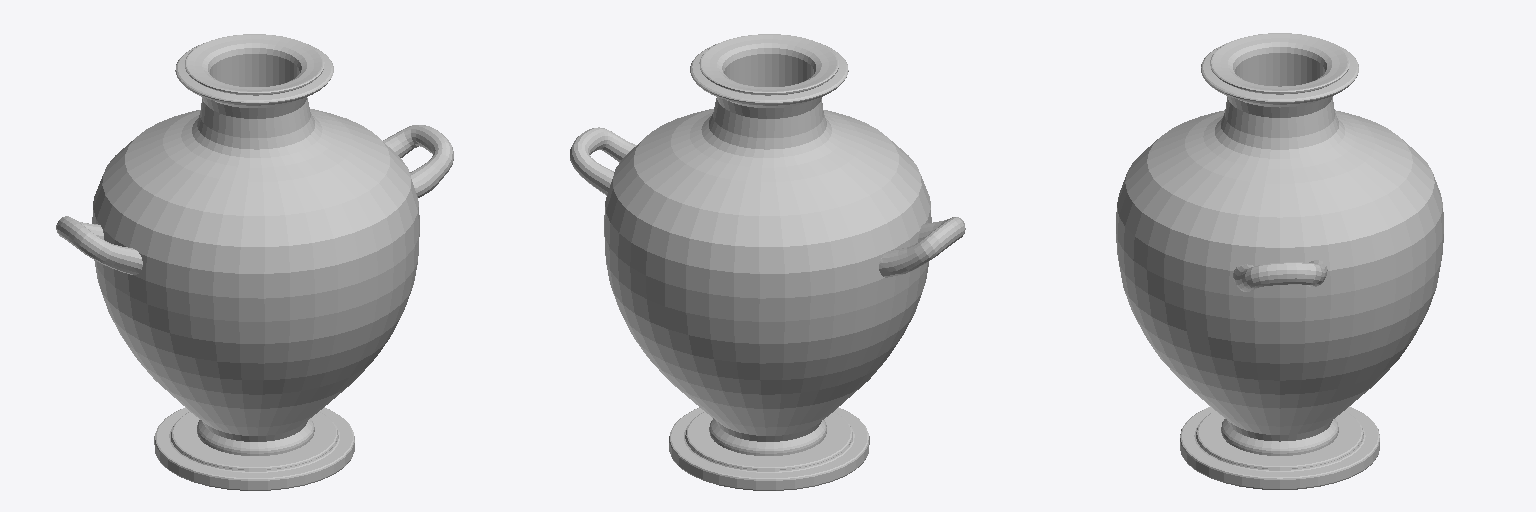
File: vase.obj
The picture shows the model from 3 angles: view 1: azimuth 30°, elevation 25°; view 2: azimuth 150°, elevation 25°; view 3: azimuth 270°, elevation 25°; orthographic projection.
Bounding box in the file's own units: 6.01 × 5.9 × 4.55.